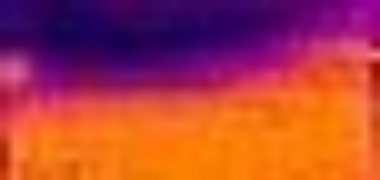Shadow: (1, 1, 292, 92), (293, 1, 380, 55)
